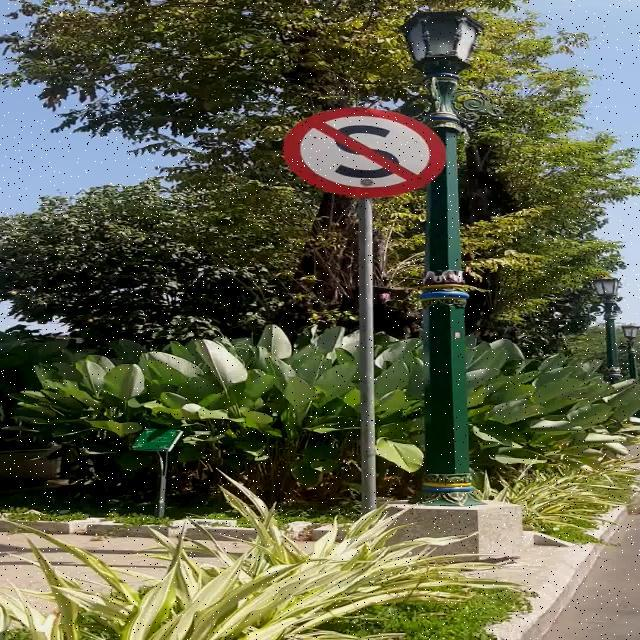Dilarang Berhenti: (283, 107, 446, 198)
